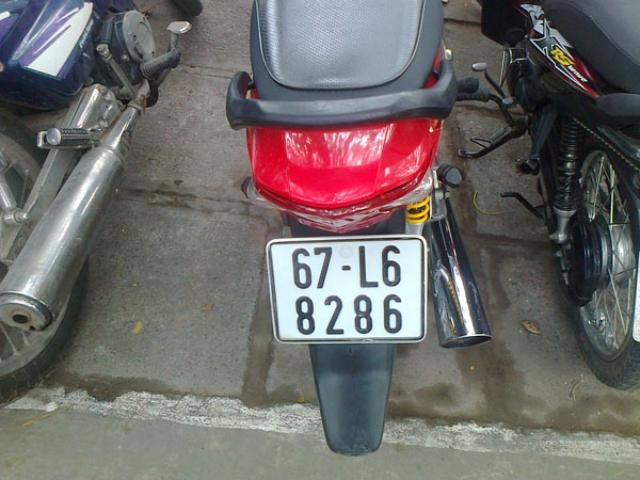plate: (272, 244, 426, 344)
